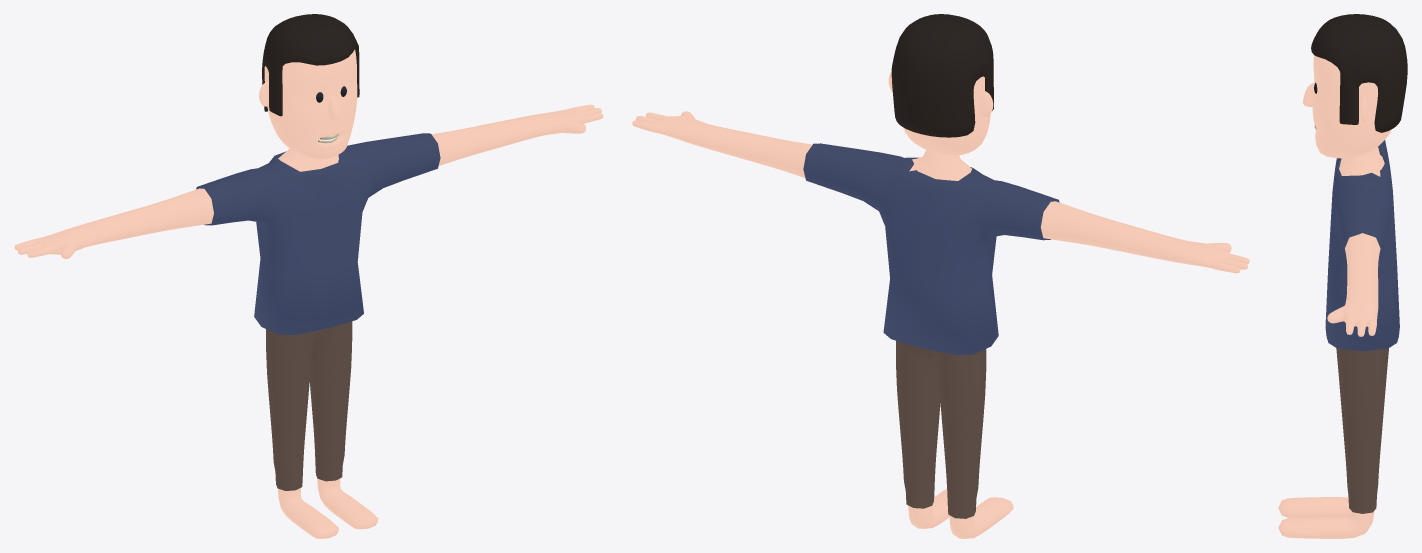
The model's file is man_2.glb.
3 views of the same model, side by side, from view 1: azimuth 30°, elevation 25°; view 2: azimuth 150°, elevation 25°; view 3: azimuth 270°, elevation 25° (orthographic). The views are drawn at different scales.
Visible parts, largest first — view 1: T-shirt_8, body_0, pants_9, Head_3, hai_4; view 2: T-shirt_8, body_0, pants_9, hai_4, Head_3; view 3: T-shirt_8, body_0, hai_4, pants_9, Head_3, nose_2.
Boxes of the visible parts, x1,y1,x2,y2 form: T-shirt_8: (196,133,440,334); body_0: (14,104,603,538); pants_9: (266,321,352,490); Head_3: (264,49,357,159); hai_4: (262,14,359,116); T-shirt_8: (803,143,1059,354); body_0: (632,111,1249,538); pants_9: (896,341,986,518); hai_4: (891,14,993,137); Head_3: (903,76,990,155); T-shirt_8: (1325,140,1399,351); body_0: (1278,147,1384,538); hai_4: (1311,14,1407,132); pants_9: (1336,348,1388,513); Head_3: (1312,55,1391,158); nose_2: (1303,83,1314,106).
Size of the model in its own units: 4.72 by 3.8 by 0.8796.
